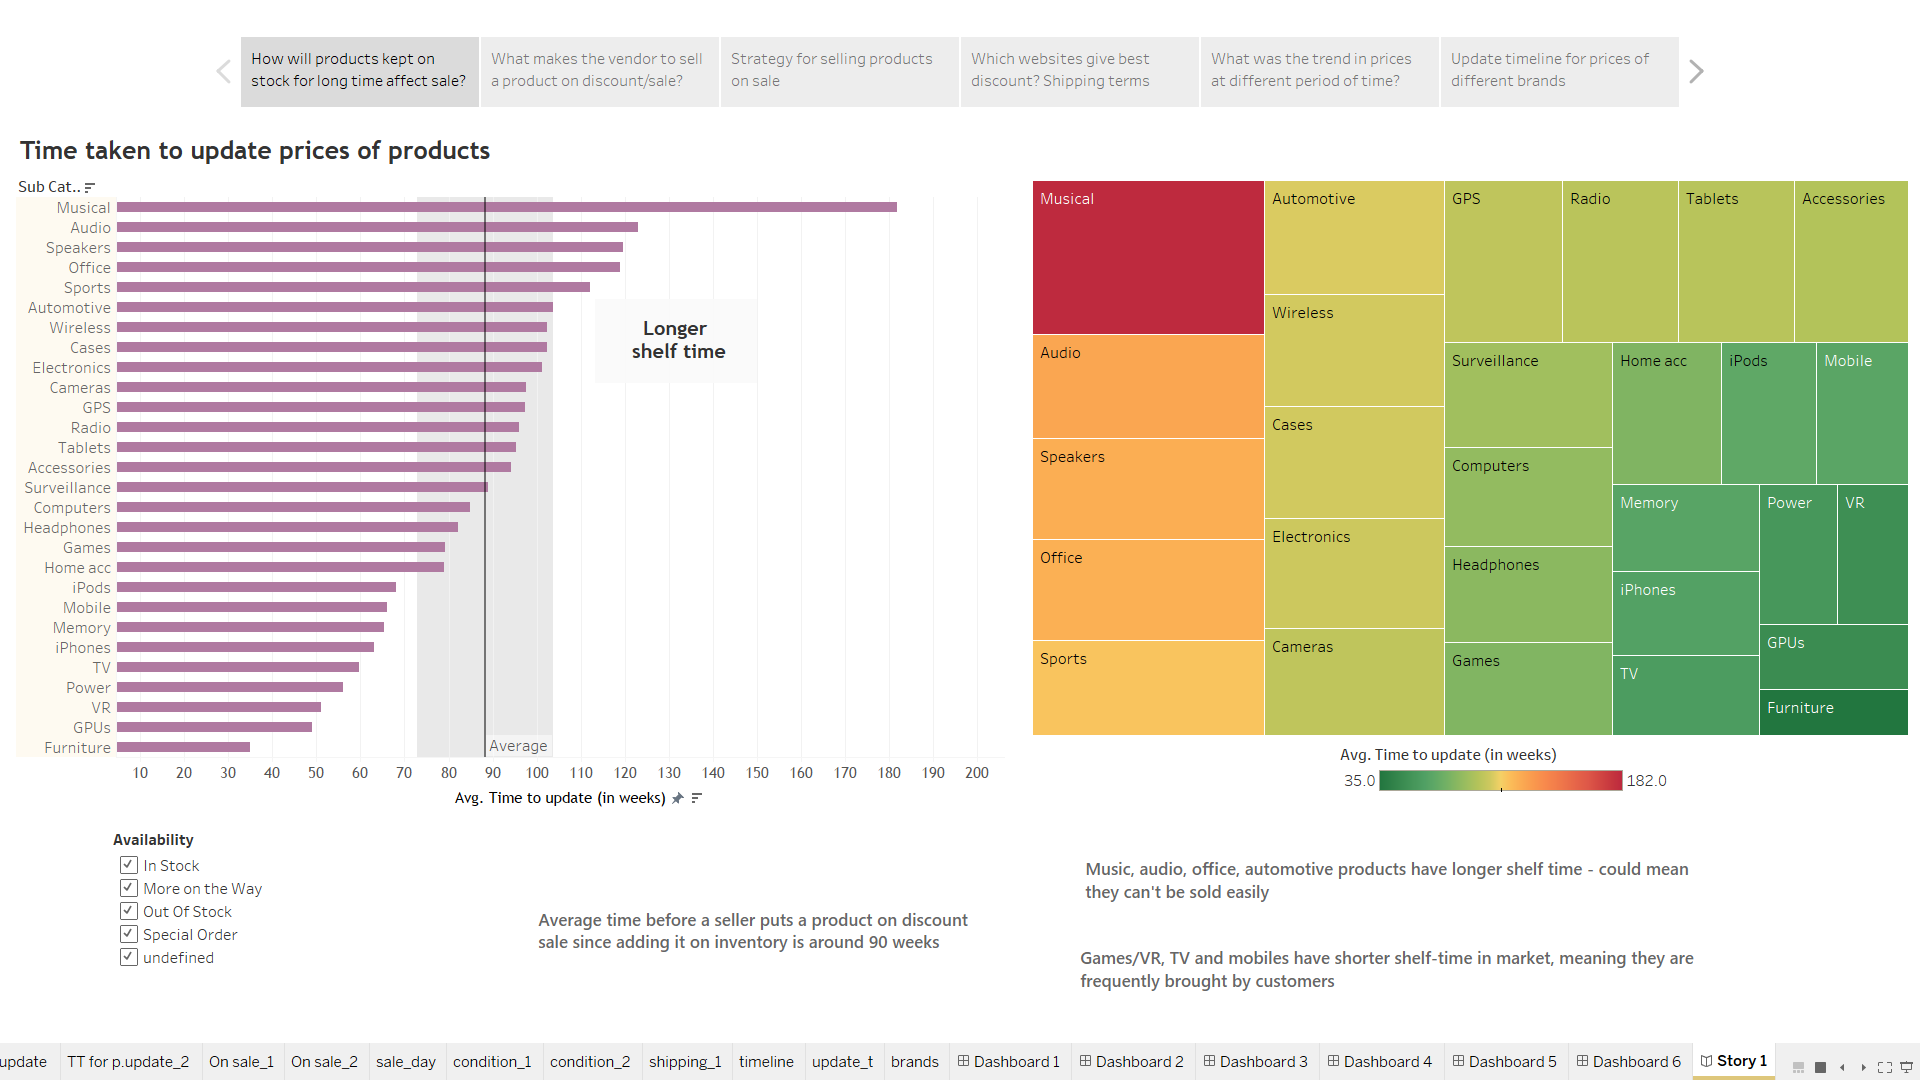

The page's visual inventory and layout, read from the dashboard file:
{"tool":"tableau","page":{"name":"Dashboard 1","canvas":[1000,1000],"units":"permille","ordinal":0},"visuals":[{"type":"worksheet","title":"TT for p.update","mark":"Automatic","rows":["sub category 1"],"cols":["Time to update (in weeks)"],"box":[4.2,5.8,519.6,751.5]},{"type":"text","box":[9.7,18.6,980.7,962.8]},{"type":"worksheet","title":"TT for p.update_2","mark":"Automatic","box":[535.9,53.4,464.1,620.2]},{"type":"legend","title":"TT for p.update_2","param":"[federated.1vl33a51myhwji18jspvm1r1us8n].[avg:Time to update (in weeks):qk]","box":[699.5,679.4,174.4,102.2]},{"type":"filter","title":"TT for p.update","param":"[federated.1vl33a51myhwji18jspvm1r1us8n].[none:Availability:nk]","box":[54.9,773.5,126.7,205.6]},{"type":"text","box":[564.3,796.8,333.1,66.2]},{"type":"text","box":[277,832.8,245,104.5]},{"type":"text","box":[561.3,880.4,333.1,95.2]}]}

Visuals, with their boxes on the dashboard's canvas, which has no fixed pixel size, in thousandths of its width and height (x1, y1, x2, y2). These are canvas units, not pixel positions in the 1920x1080 screenshot, which may show the page scaled, cropped or inside an application window:
"TT for p.update" worksheet: <bbox>4, 6, 524, 757</bbox>
text: <bbox>10, 19, 990, 981</bbox>
"TT for p.update_2" worksheet: <bbox>536, 53, 1000, 674</bbox>
"TT for p.update_2" legend: <bbox>700, 679, 874, 782</bbox>
"TT for p.update" filter: <bbox>55, 774, 182, 979</bbox>
text: <bbox>564, 797, 897, 863</bbox>
text: <bbox>277, 833, 522, 937</bbox>
text: <bbox>561, 880, 894, 976</bbox>
